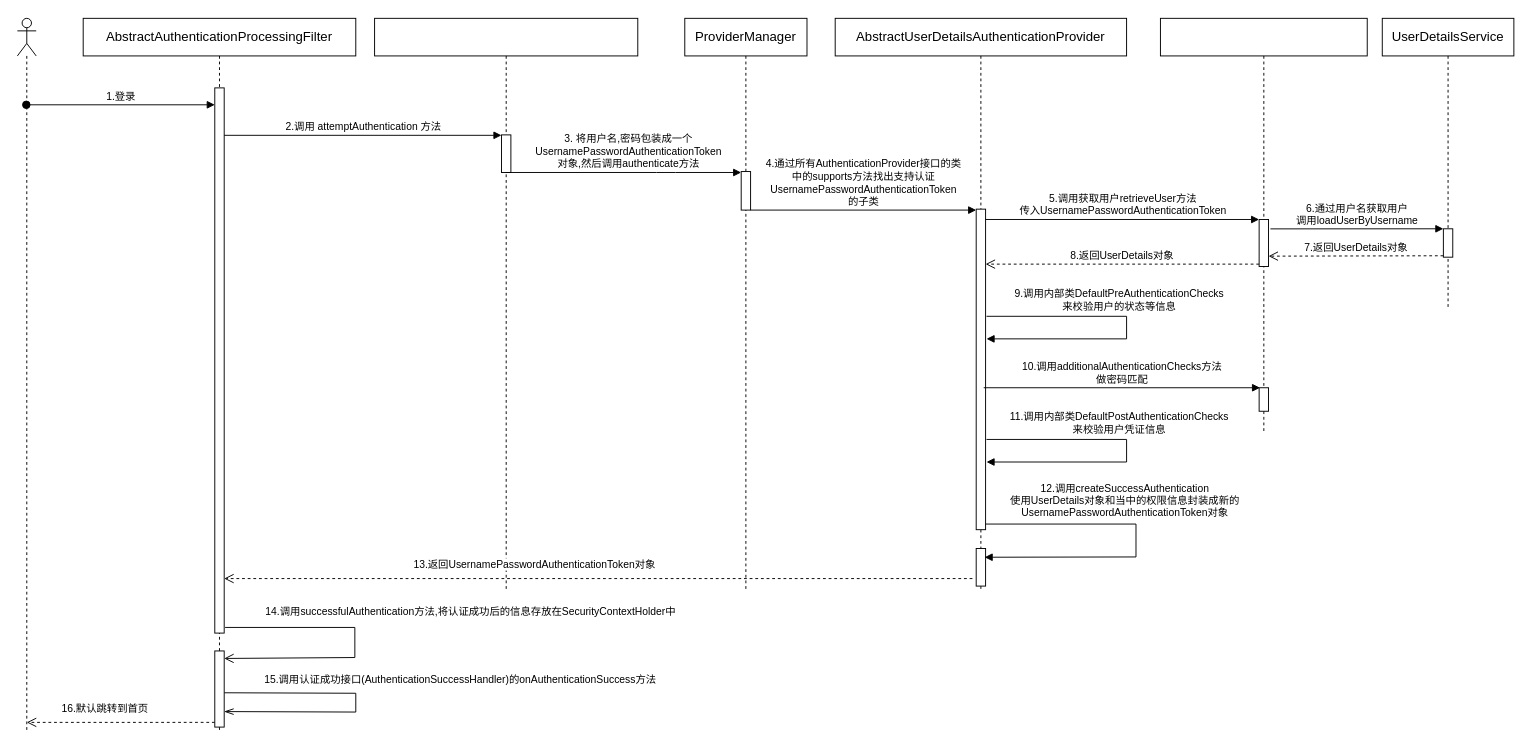
This 1530x749 diagram has some shape labels left out. Each missing label, with the box of its shape:
DaoAuthenticationProvider: (1159, 17, 1367, 432)
UsernamePasswordAuthenticationFilter: (374, 17, 638, 592)
